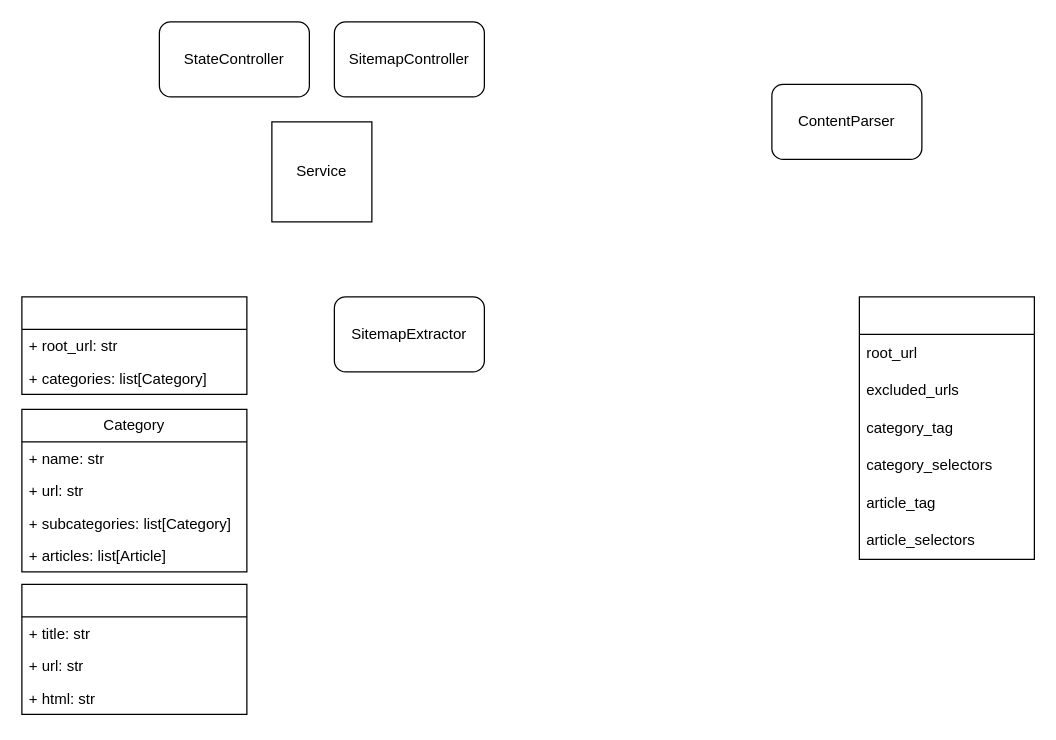
Some shapes in this 1056 by 740 pixel diagram are drawn without their labels. Here are the shapes that lost their labels. From the top down, the box of each, then its label:
(21, 296, 247, 394): SiteMap
(858, 296, 1034, 559): ExtractorOptions
(21, 583, 247, 714): Article
